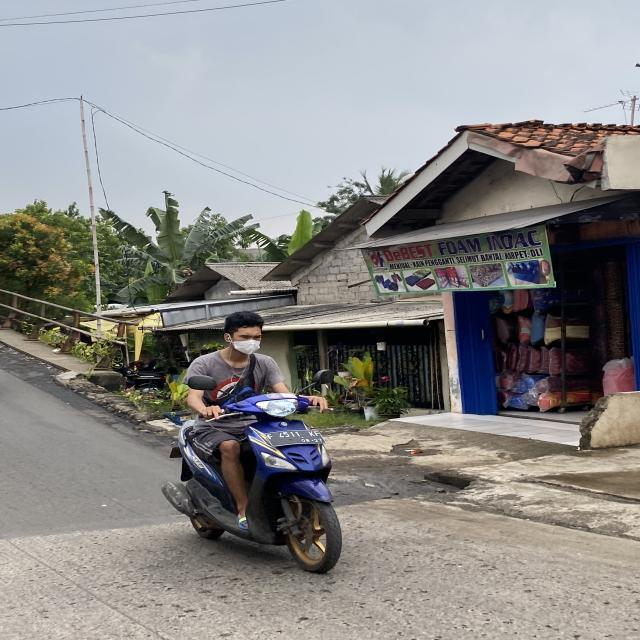Number Plate: (265, 430, 323, 446)
Rearview Mirror: (187, 375, 216, 390), (313, 369, 333, 385)
